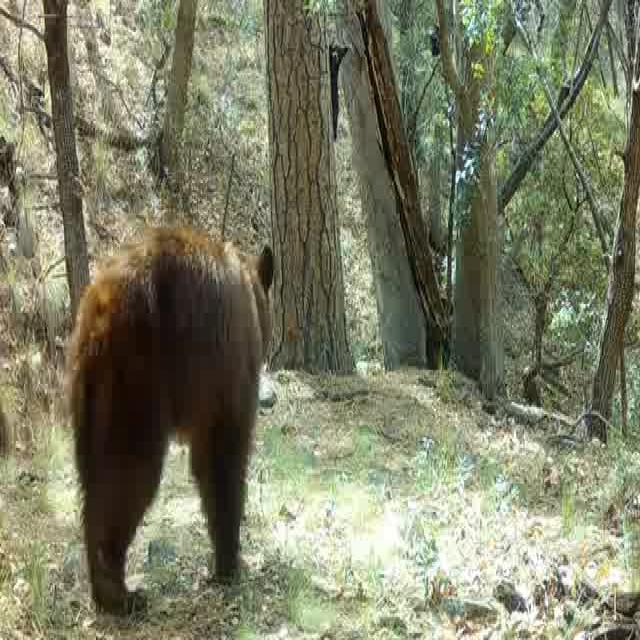bear face: (68, 223, 273, 611), (328, 44, 347, 135)
